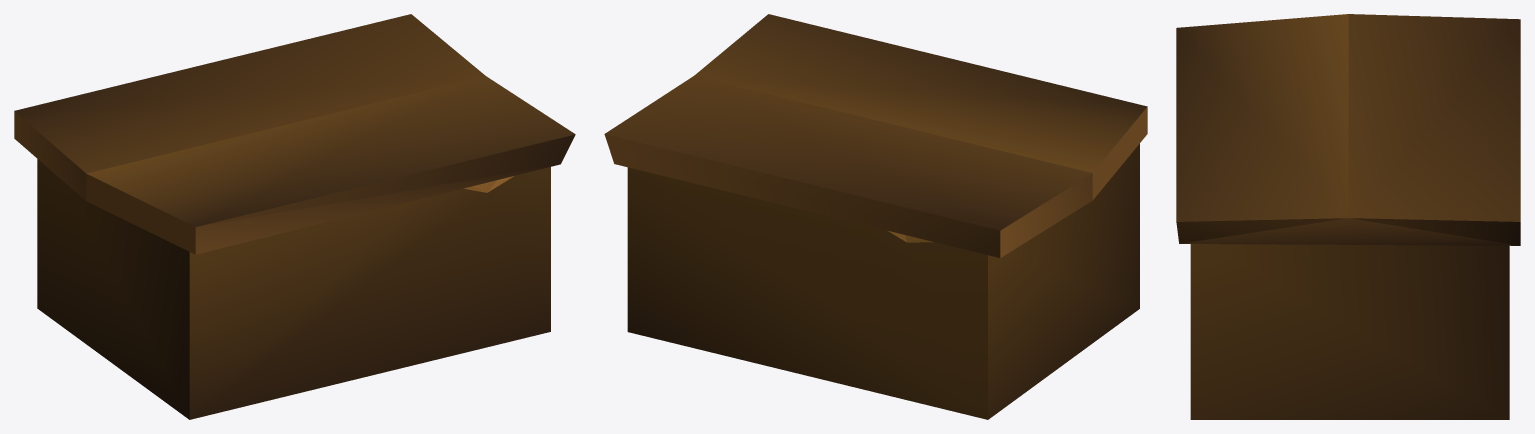
The model's file is Mixed_Box_01.fbx.
3 renders of one model, left to right at view 1: azimuth 30°, elevation 25°; view 2: azimuth 150°, elevation 25°; view 3: azimuth 270°, elevation 25°, orthographic. The views are drawn at different scales.
Visible parts, largest first — view 1: Box_01.001; view 2: Box_01.001; view 3: Box_01.001.
Part boxes in pixels (left/top/right/bottom): Box_01.001: left=14, top=14, right=575, bottom=419; Box_01.001: left=604, top=14, right=1147, bottom=419; Box_01.001: left=1176, top=14, right=1520, bottom=419.
Bounding box in the file's own units: 199 × 92.26 × 139.
